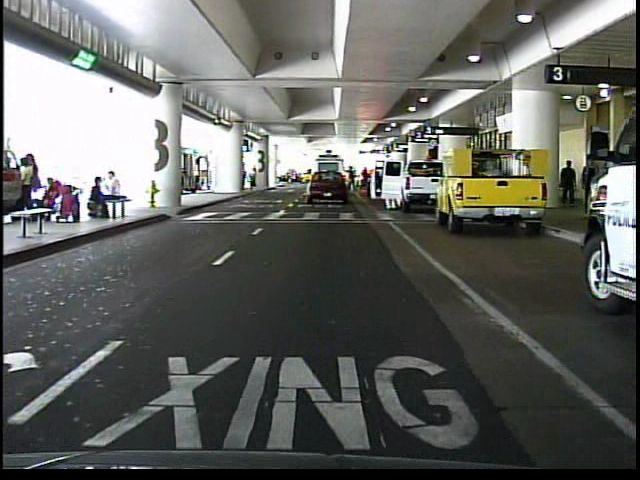person: (555, 156, 580, 212), (249, 166, 260, 191)
